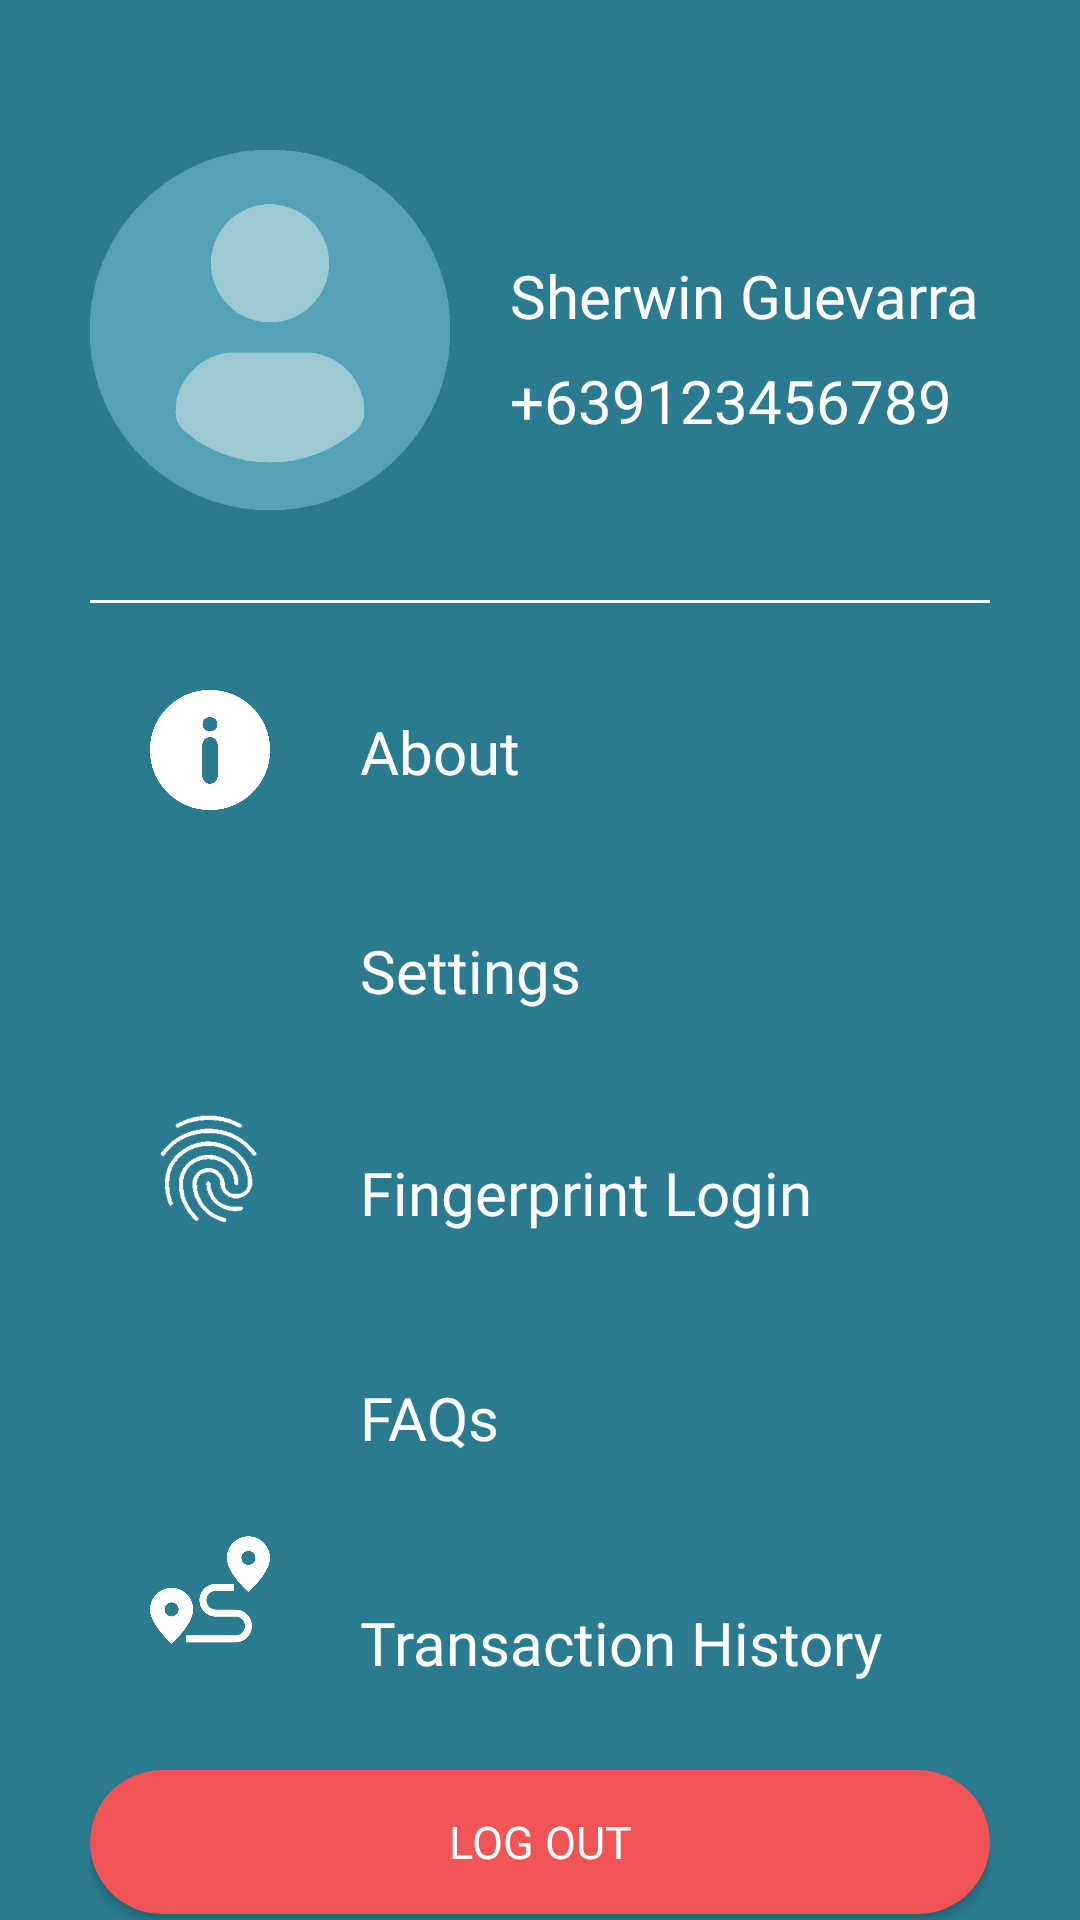

Named icons in this screenshot (1080×1920) and their bounding boxes, (x1, y1, x2, y2):
route: (150, 1536, 270, 1644)
user: (90, 150, 450, 510)
